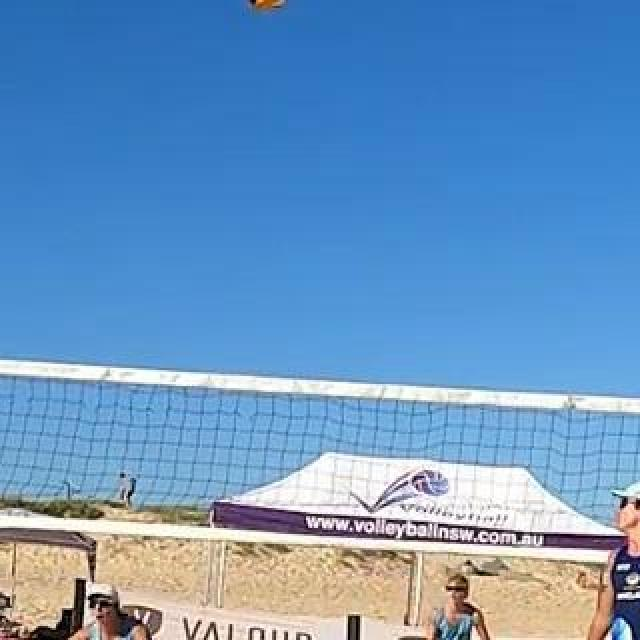volleyball: (246, 0, 290, 12)
